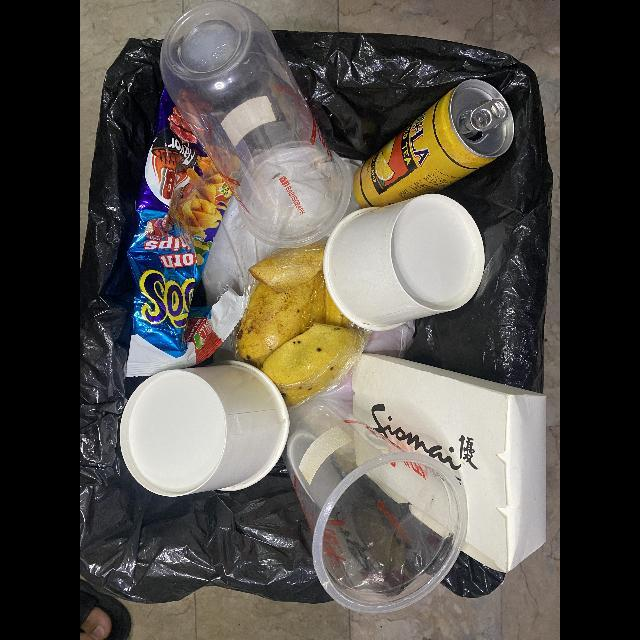biowaste: (229, 243, 368, 409)
metal: (352, 80, 515, 209)
paper: (349, 353, 547, 574), (118, 360, 290, 498), (119, 361, 290, 498), (322, 194, 486, 334)
plastic: (160, 0, 352, 249), (284, 399, 468, 616)
wrapper: (126, 89, 244, 378)
